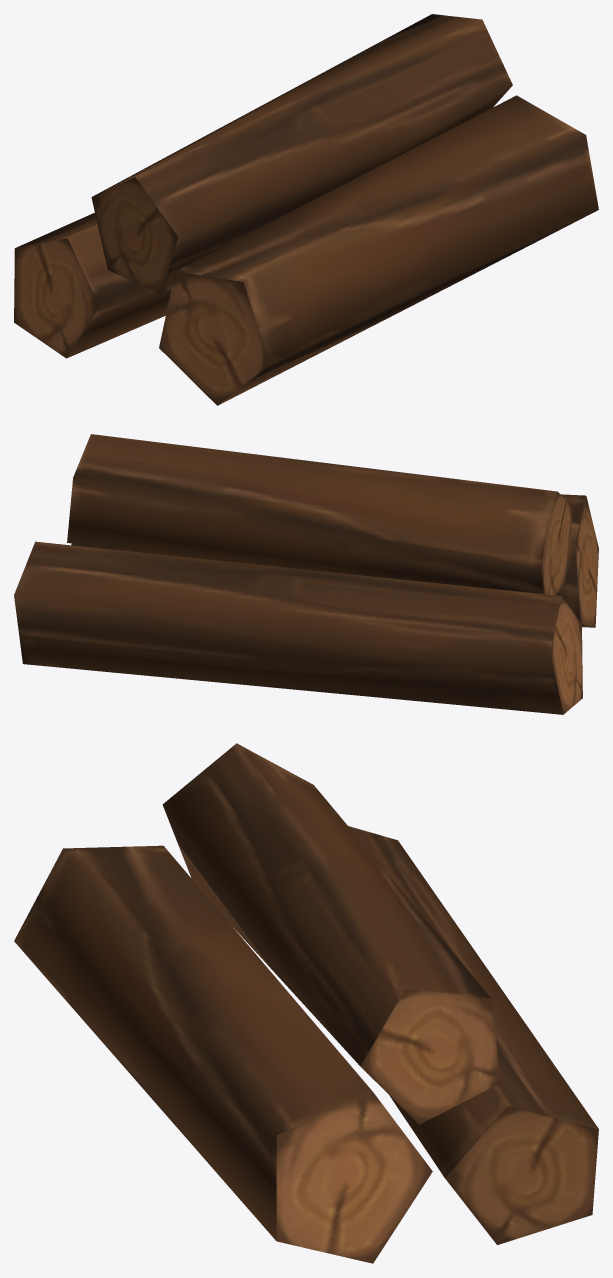
The model's file is DWF_wood.FBX.
The picture shows the model from 3 angles, top to bottom: view 1: azimuth 30°, elevation 25°; view 2: azimuth 150°, elevation 25°; view 3: azimuth 270°, elevation 25°; orthographic projection. The views are drawn at different scales.
Parts seen in each view (by area): view 1: DWF_Xtra_wood; view 2: DWF_Xtra_wood; view 3: DWF_Xtra_wood.
Part boxes in pixels (bbox=[...]): DWF_Xtra_wood: bbox=[14, 14, 598, 405]; DWF_Xtra_wood: bbox=[14, 434, 598, 714]; DWF_Xtra_wood: bbox=[14, 743, 598, 1263].
Bounding box in the file's own units: 35.27 × 12.46 × 26.14.
1 material, 1 textured.
